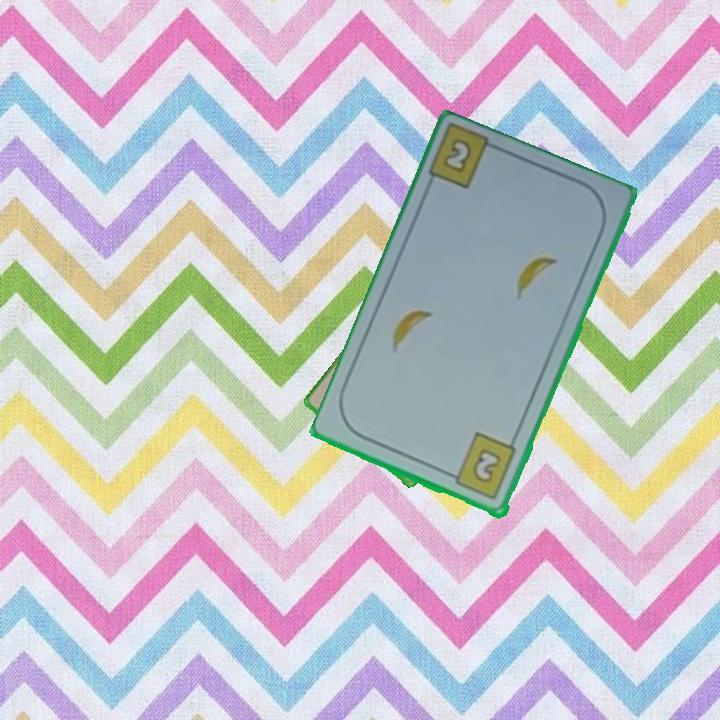2b: (444, 430, 520, 503), (439, 135, 475, 177)
